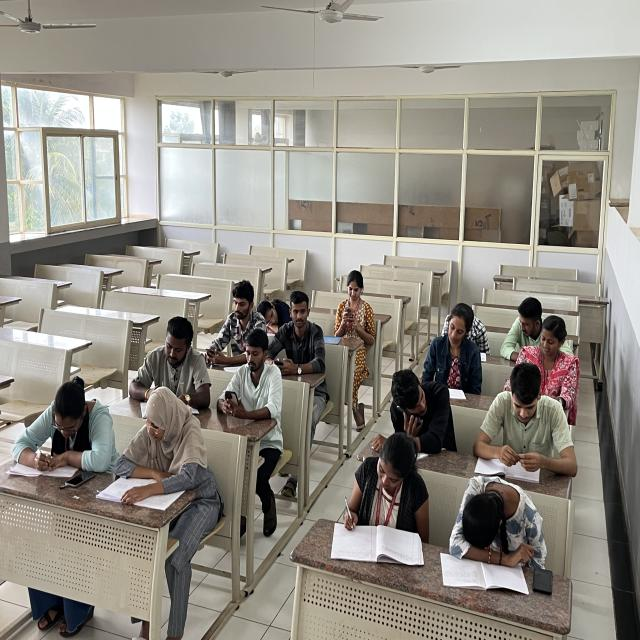Reading: (102, 391, 208, 511), (131, 322, 211, 405)
Sleeping: (450, 476, 552, 566)
Using Phone: (470, 369, 574, 475), (372, 358, 462, 454), (202, 271, 270, 372), (217, 329, 282, 421), (270, 293, 326, 377), (327, 266, 375, 333)
Writing: (333, 436, 431, 554), (15, 371, 119, 475), (510, 309, 593, 430), (414, 282, 479, 392)
